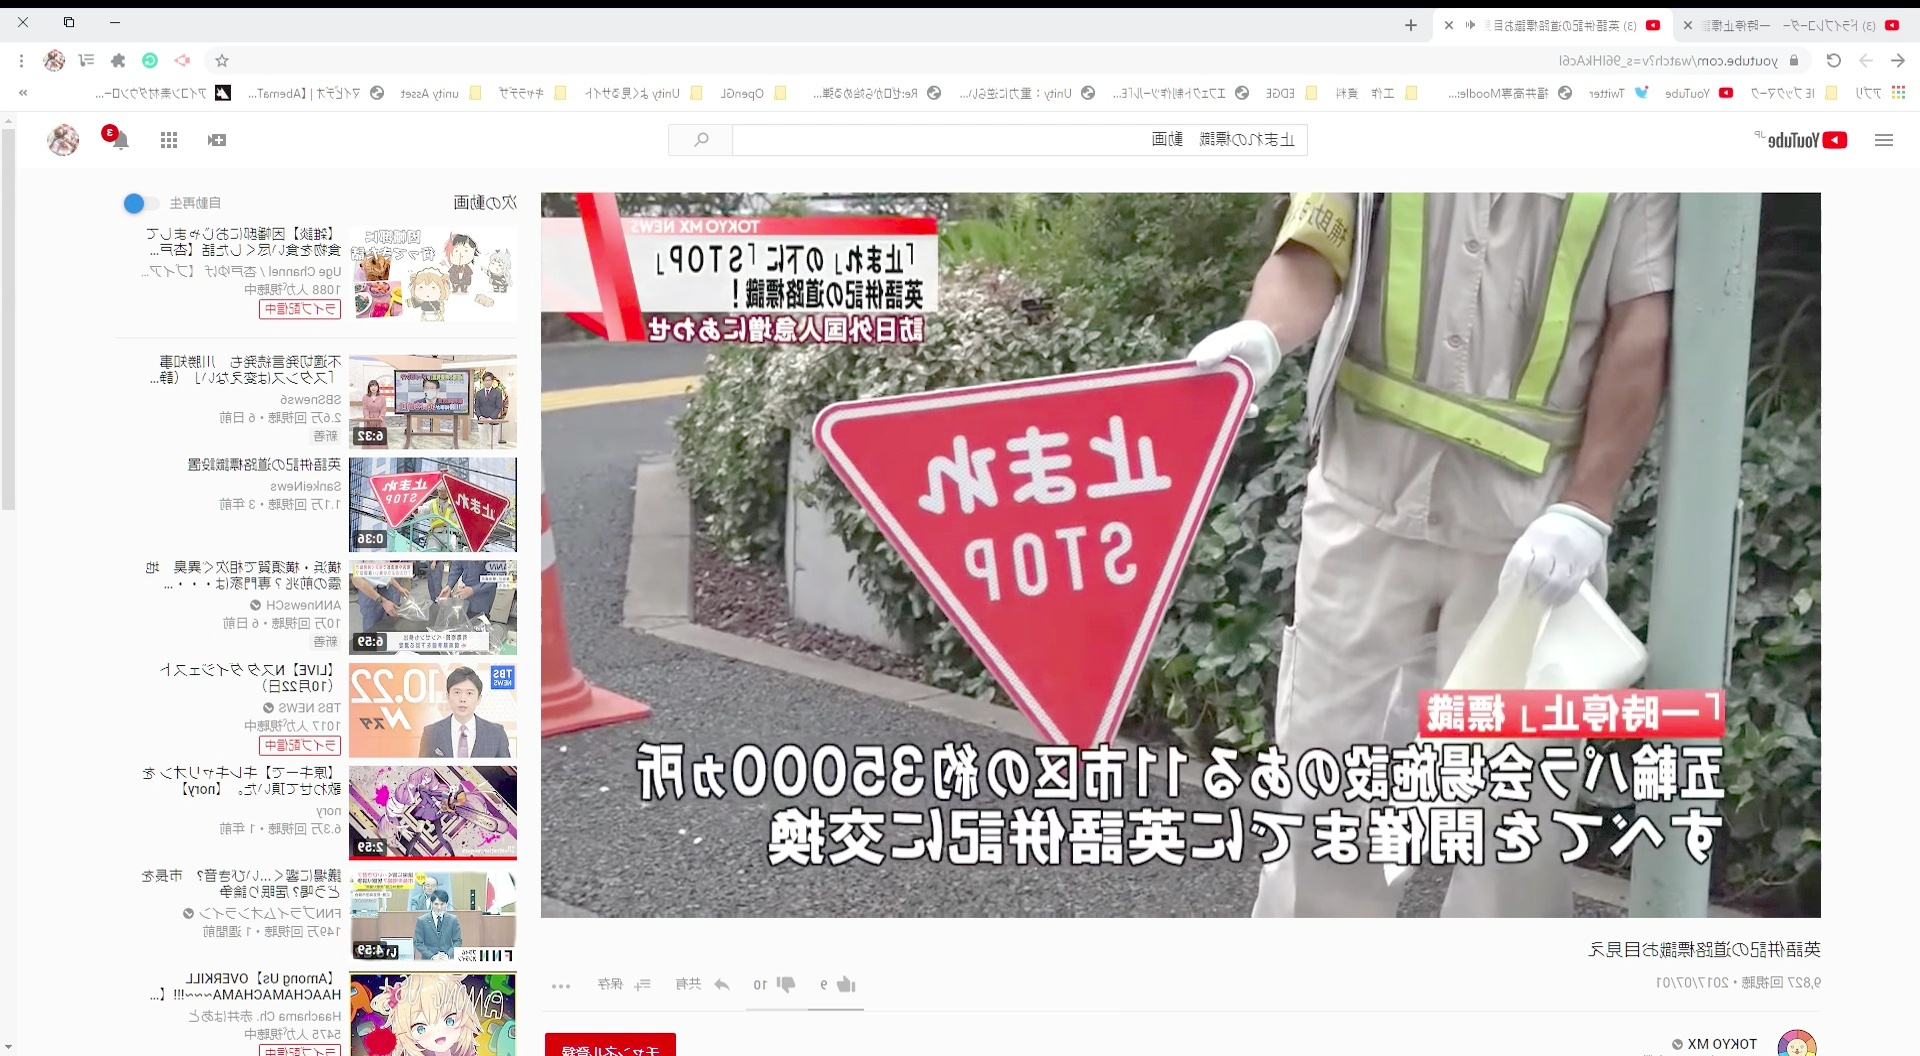Regulatory_sign_triangle: (802, 345, 1269, 808)
